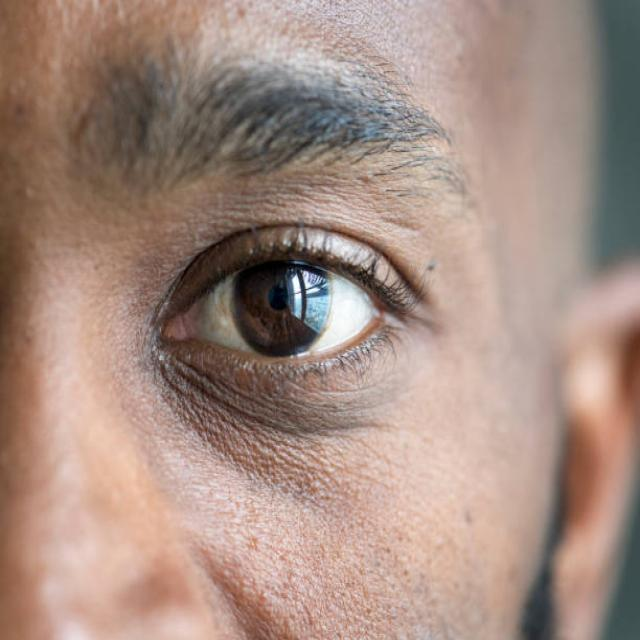high: (167, 355, 421, 438)
